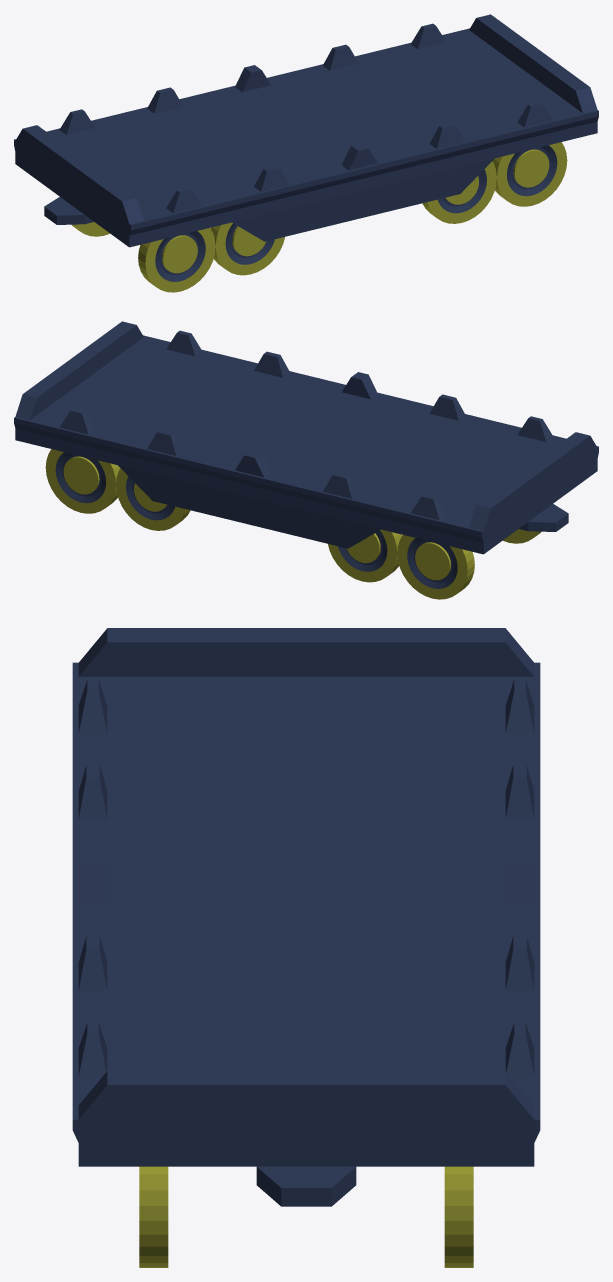
Rendered from TrailerModel.fbx.
The picture shows the model from 3 angles, top to bottom: view 1: azimuth 30°, elevation 25°; view 2: azimuth 150°, elevation 25°; view 3: azimuth 270°, elevation 25°; orthographic projection. The views are drawn at different scales.
Visible parts, largest first — view 1: TrailerModel; view 2: TrailerModel; view 3: TrailerModel.
Boxes of the visible parts, <box> form: TrailerModel: <box>14,14,598,292</box>; TrailerModel: <box>14,321,598,599</box>; TrailerModel: <box>72,628,540,1267</box>.
Size of the model in its own units: 856 by 179 by 339.
